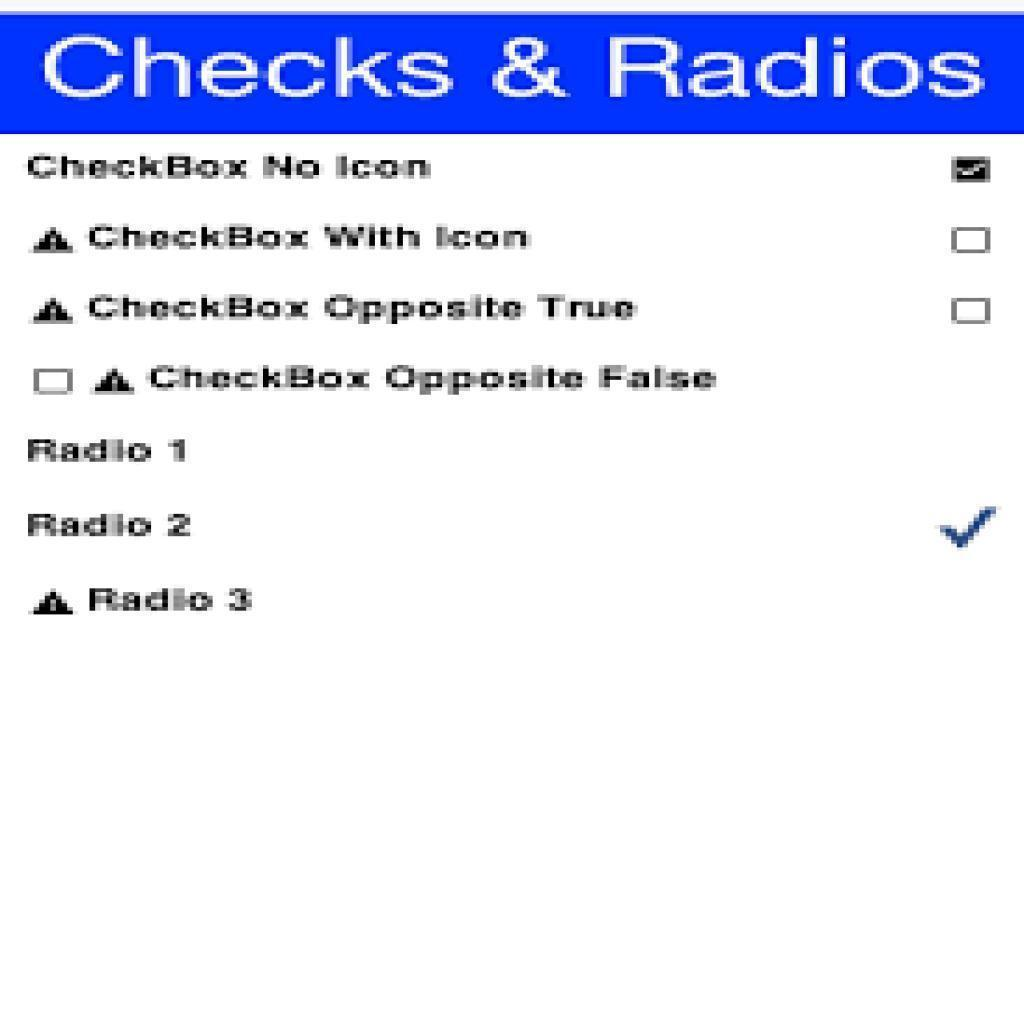checkbox: (952, 228, 991, 255), (951, 297, 990, 324), (951, 156, 990, 182), (33, 369, 73, 394)
icon: (935, 503, 1002, 555), (89, 361, 130, 395), (30, 587, 76, 617), (29, 296, 72, 326), (29, 227, 75, 255)
label: (147, 360, 718, 396), (81, 216, 536, 257), (89, 291, 643, 321), (29, 153, 437, 185), (21, 434, 198, 469), (26, 506, 195, 542), (86, 584, 259, 619)
